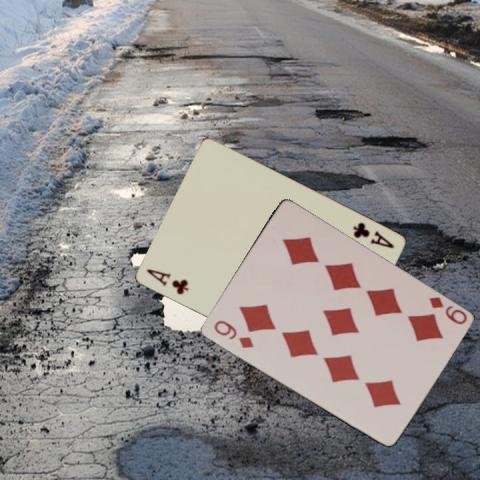9d: (210, 317, 255, 350), (425, 294, 469, 326)
Ac: (349, 219, 396, 250), (143, 266, 190, 296)
